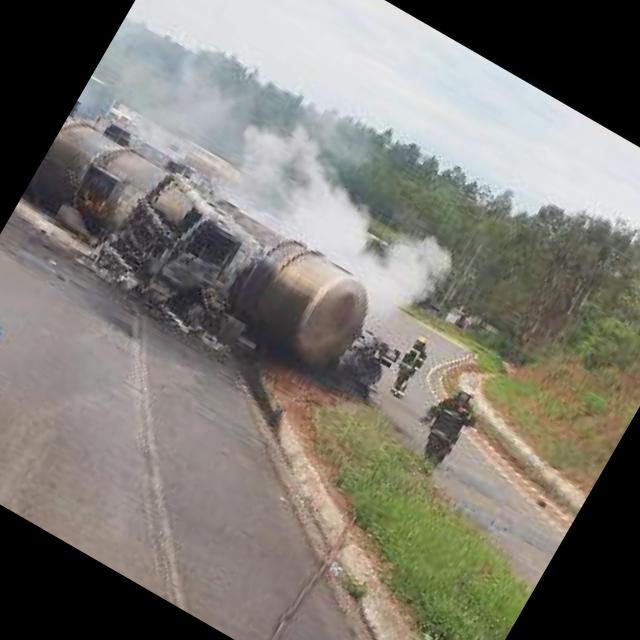fire: (78, 186, 109, 212)
smoke: (190, 98, 485, 348)
